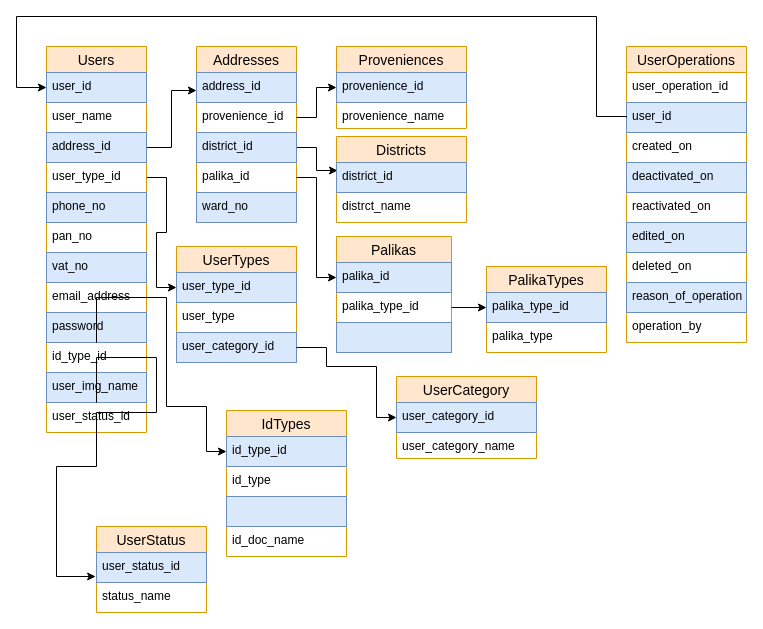
Image size: 763x629. Some labels were removed from this diagram. The centre of each missing label's shape, as x and y in pixels:
id_no: [286,511]
palika_name: [394,337]
